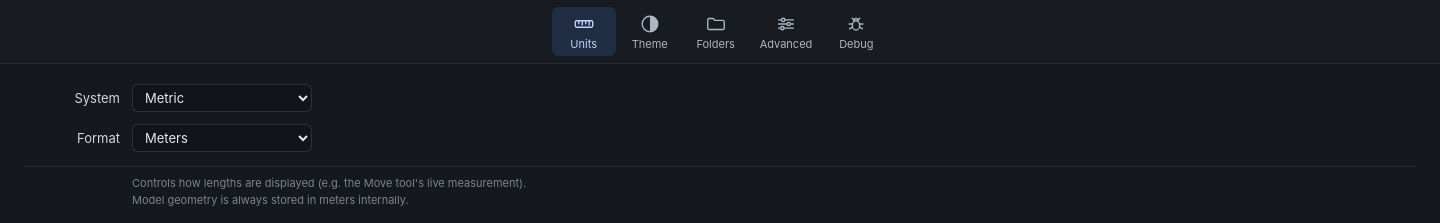
Test: SettingsWindow › switches to the Theme pane when the Theme tab is clicked
What coordinates should you click on to do the following:
click the tab "Theme"
I would click on:
 (650, 32)
Its box is top-left (618, 7), bottom-right (682, 56).
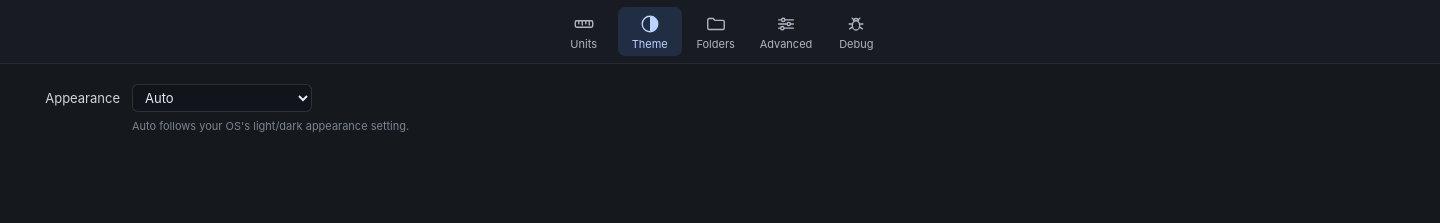
Expected: the dropdown labelled "Appearance" is shown, top-left (132, 84), bottom-right (312, 112)
